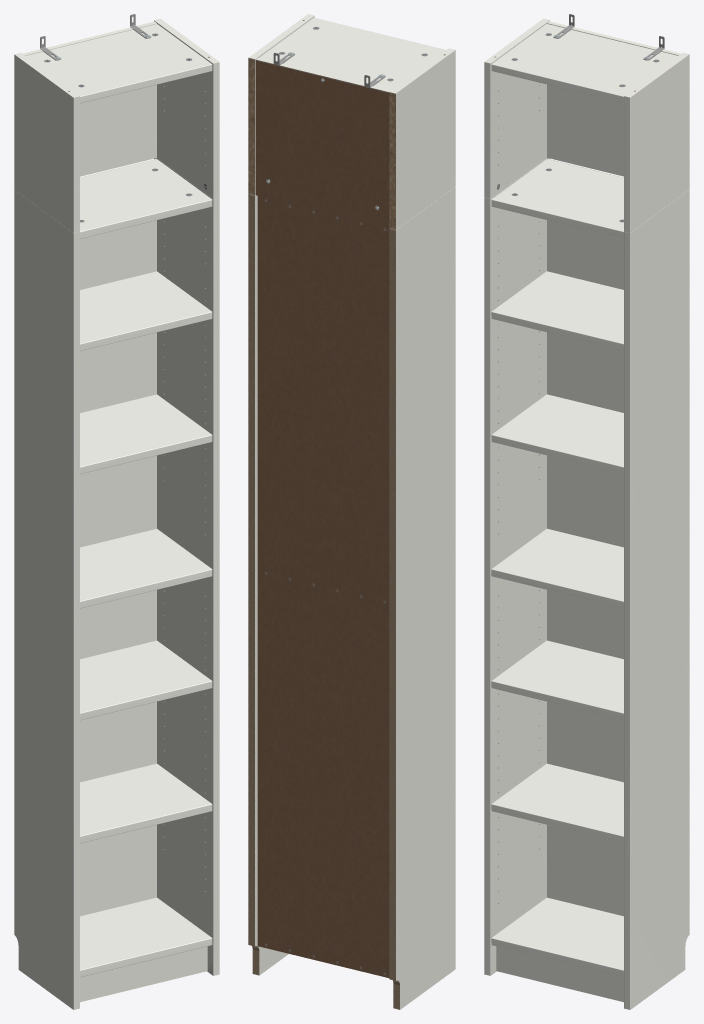
File: billy_rega_49217734.glb
The picture shows the model from 3 angles, left to right: view 1: azimuth 30°, elevation 25°; view 2: azimuth 150°, elevation 25°; view 3: azimuth 330°, elevation 25°; orthographic projection.
Visible parts, largest first — view 1: billy_rega_49217734; view 2: billy_rega_49217734; view 3: billy_rega_49217734.
Boxes of the visible parts, <box> form: billy_rega_49217734: <box>14,14,219,1009</box>; billy_rega_49217734: <box>248,14,455,1009</box>; billy_rega_49217734: <box>484,14,689,1009</box>.
Size of the model in its own units: 0.398 by 2.4 by 0.28.
1 material, 1 textured.
